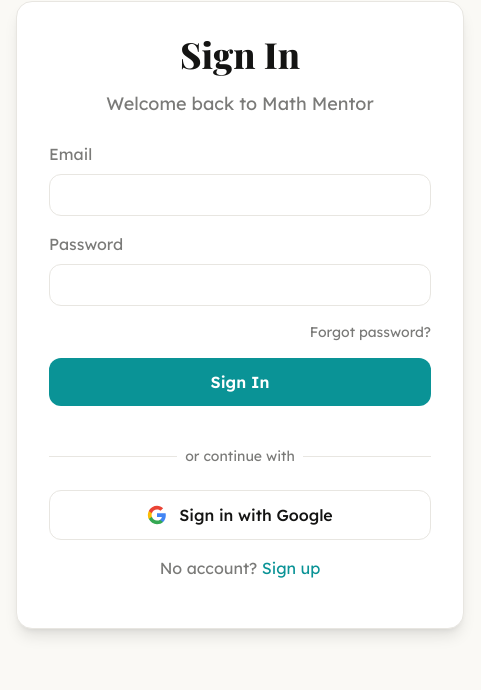
it: LoginPage › shows error message on failed login
The image size is (481, 690).
Type "test@test.com" into the field labelled "Email".
click(240, 195); type("test@test.com")  # box [49,174,431,216]
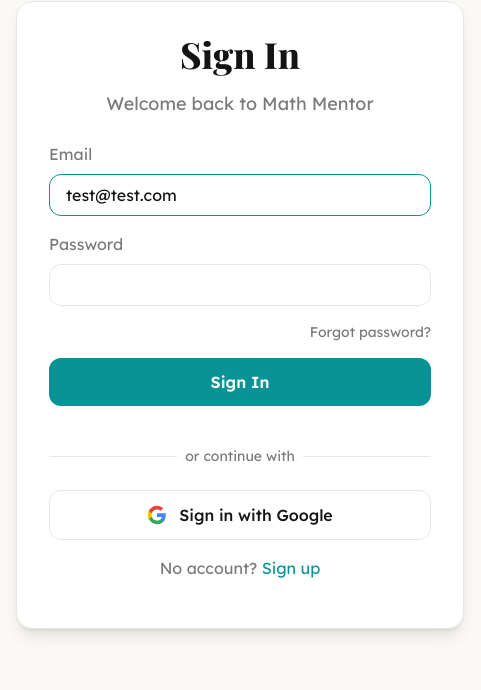
Type "wrong-password" into the password field labelled "Password".
click(240, 285); type("wrong-password")  # box [49,264,431,306]
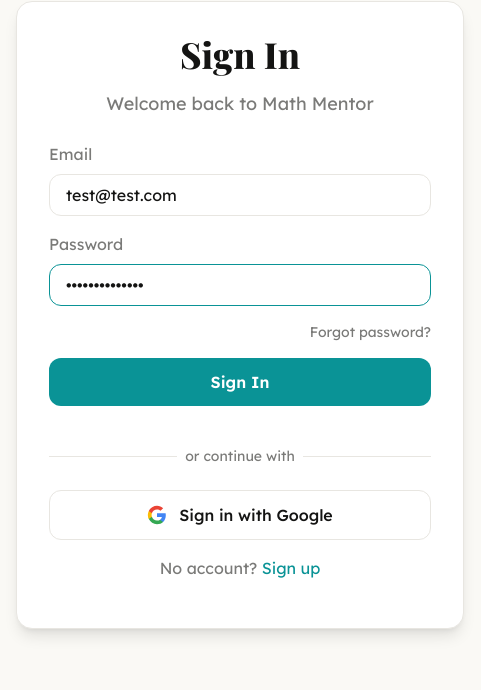
Click the button "Sign In".
click(240, 382)  # box [49,358,431,406]
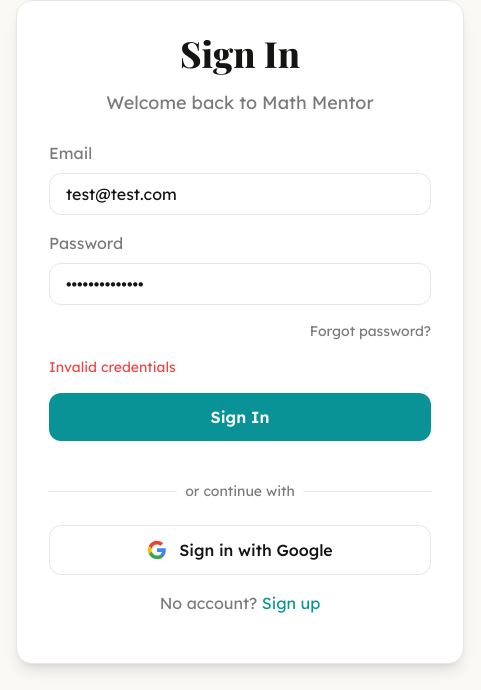
Expected: the text "Invalid credentials" is shown, [49,358,176,376]
